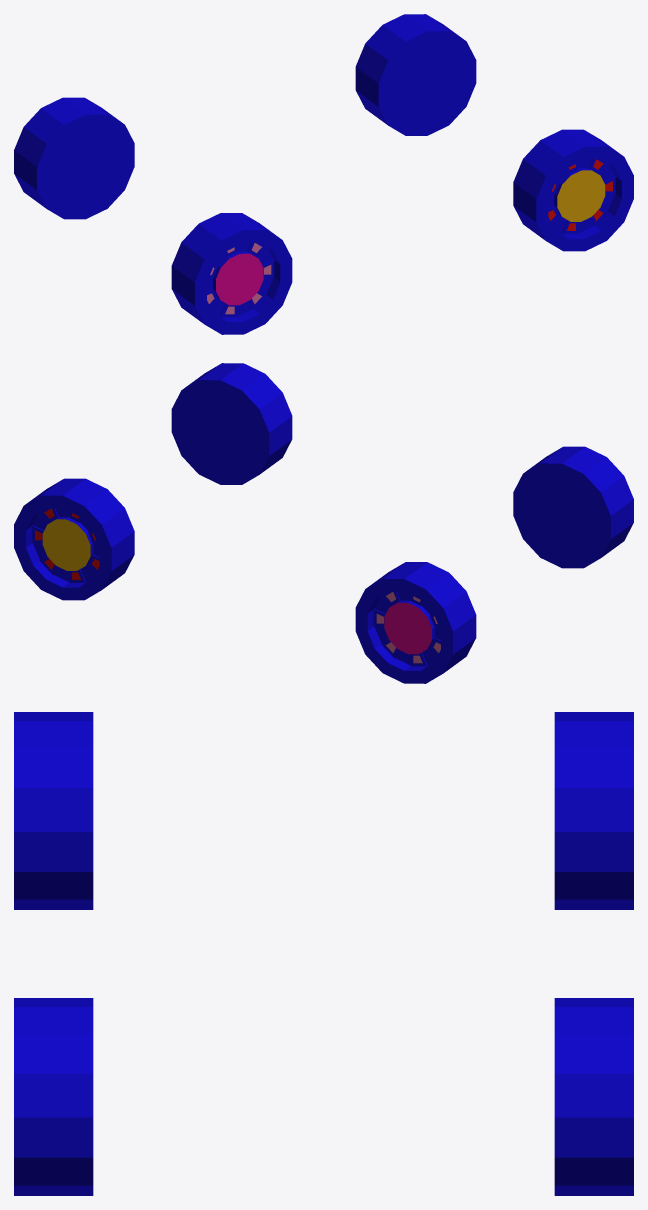
Rendered from car_4_wheels.obj.
3 views of the same model, one above another, from view 1: azimuth 30°, elevation 25°; view 2: azimuth 150°, elevation 25°; view 3: azimuth 270°, elevation 25° (orthographic). The views are drawn at different scales.
Visible parts, largest first — view 1: Cylinder, Cylinder.002; view 2: Cylinder, Cylinder.002; view 3: Cylinder, Cylinder.002.
Part boxes in pixels (left/top/right/bottom): Cylinder: left=355, top=14, right=633, bottom=251; Cylinder.002: left=14, top=97, right=292, bottom=334; Cylinder: left=14, top=363, right=292, bottom=600; Cylinder.002: left=355, top=446, right=633, bottom=683; Cylinder: left=14, top=998, right=633, bottom=1195; Cylinder.002: left=14, top=712, right=633, bottom=909.
Bounding box in the file's own units: 4.13 × 0.942 × 2.95.
